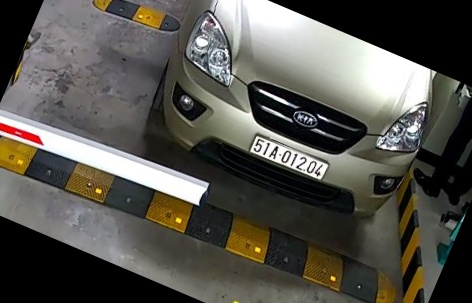plate: (246, 131, 334, 189)
